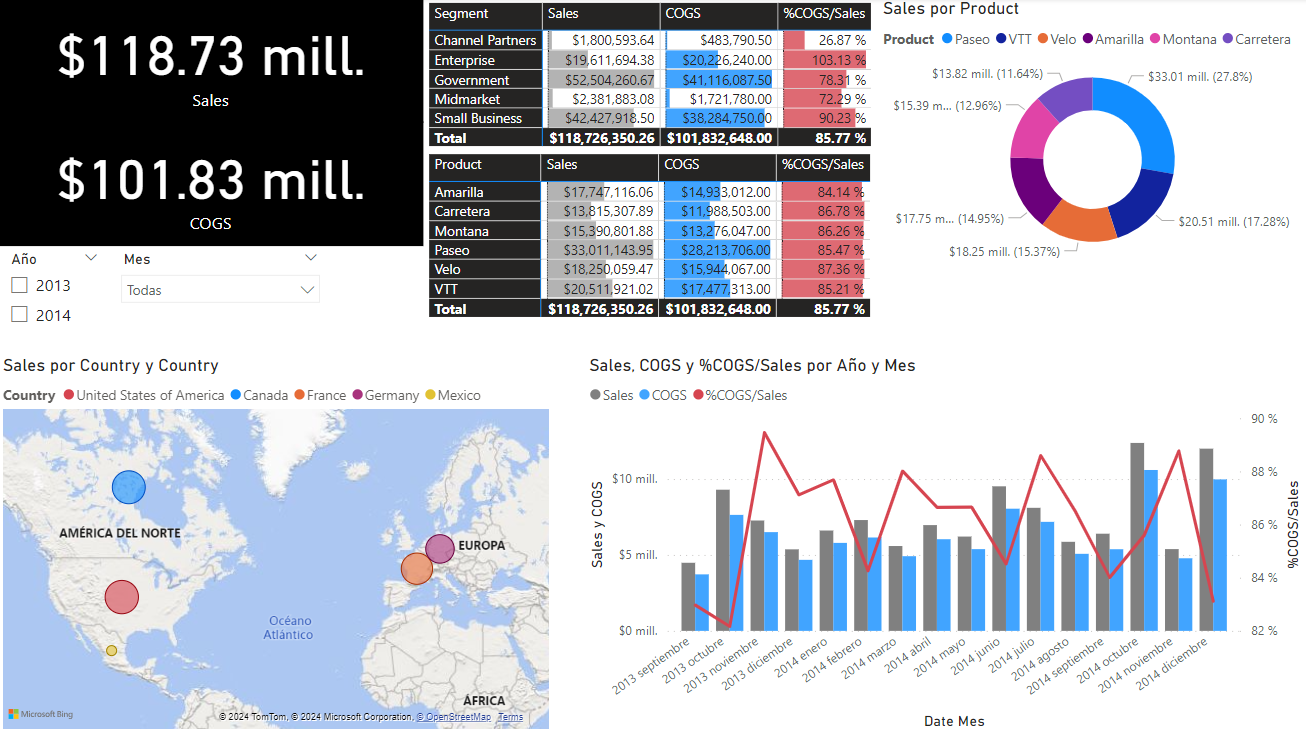

The page's visual inventory and layout, read from the dashboard file:
{"tool":"powerbi","page":{"name":"Página 1","canvas":[1280,720],"ordinal":0},"visuals":[{"type":"donutChart","fields":{"Y":["Sum(financials. Sales)"],"Category":["financials.Product"]},"box":[860,0,420,267.5],"z":0},{"type":"pivotTable","fields":{"Rows":["financials.Segment"],"Values":["Sum(financials. Sales)","Sum(financials.COGS)","financials.COGS dividido por  Sales"]},"box":[416.2,0,443.8,153.8],"z":1},{"type":"lineClusteredColumnComboChart","fields":{"Category":["financials.Date.Variación.Jerarquía de fechas.Año","financials.Date.Variación.Jerarquía de fechas.Mes"],"Y":["Sum(financials. Sales)","Sum(financials.COGS)"],"Y2":["financials.%COGS/Sales"]},"box":[573.8,348.8,706.2,371.2],"z":2},{"type":"map","fields":{"Size":["Sum(financials. Sales)"],"Category":["financials.Country"],"Series":["financials.Country"]},"box":[0,348.8,543.8,371.2],"z":3},{"type":"slicer","fields":{"Values":["financials.Date.Variación.Jerarquía de fechas.Año"]},"box":[0,242.5,110,96.2],"z":4},{"type":"slicer","fields":{"Values":["financials.Date.Variación.Jerarquía de fechas.Mes"]},"box":[110,242.5,215,73.8],"z":5},{"type":"card","fields":{"Values":["Sum(financials. Sales)"]},"box":[0,0,416.2,121.2],"z":6},{"type":"pivotTable","fields":{"Rows":["financials.Product"],"Values":["Sum(financials. Sales)","Sum(financials.COGS)","financials.COGS dividido por  Sales"]},"box":[416.2,147.5,443.8,173.8],"z":7},{"type":"card","fields":{"Values":["Sum(financials.COGS)"]},"box":[0,121.2,416.2,121.2],"z":8}]}

Visuals, with their boxes in screenshot pixels (x1, y1, x2, y2), scaled from the page's 1280x720 canvas onto the 1306x730 screenshot:
donutChart - Sum(financials. Sales) x financials.Product: bbox(877, 0, 1305, 271)
pivotTable - financials.Segment x Sum(financials. Sales): bbox(425, 0, 877, 156)
lineClusteredColumnComboChart - financials.Date.Variación.Jerarquía de fechas.Año x financials.Date.Variación.Jerarquía de fechas.Mes: bbox(585, 354, 1305, 729)
map - Sum(financials. Sales) x financials.Country: bbox(0, 354, 555, 729)
slicer - financials.Date.Variación.Jerarquía de fechas.Año: bbox(0, 246, 112, 343)
slicer - financials.Date.Variación.Jerarquía de fechas.Mes: bbox(112, 246, 332, 321)
card - Sum(financials. Sales): bbox(0, 0, 425, 123)
pivotTable - financials.Product x Sum(financials. Sales): bbox(425, 150, 877, 326)
card - Sum(financials.COGS): bbox(0, 123, 425, 246)
